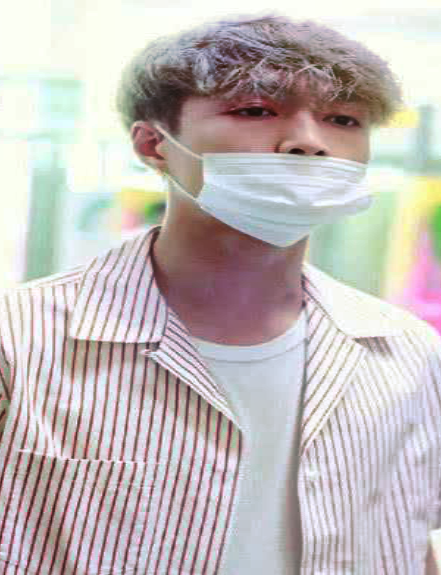mask_weared_incorrect: (174, 97, 378, 251)
